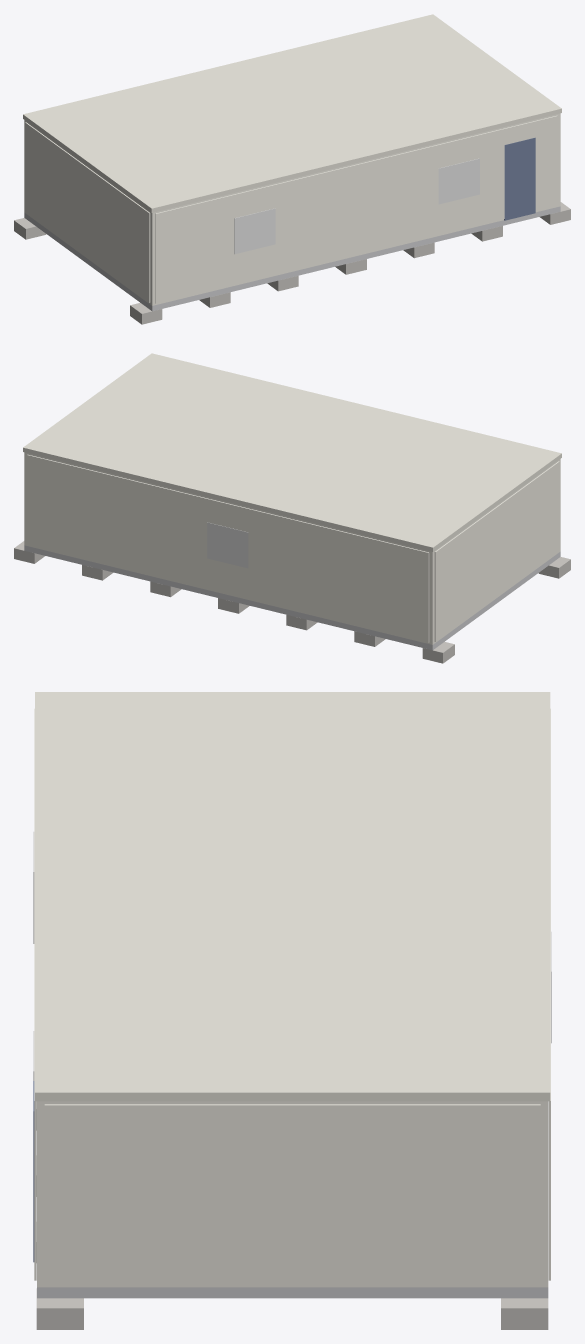
File: Studio-40-Base-IvoryWhite-LOD2.glb
3 views of the same model, one above another, from view 1: azimuth 30°, elevation 25°; view 2: azimuth 150°, elevation 25°; view 3: azimuth 270°, elevation 25° (orthographic). The views are drawn at different scales.
Parts seen in each view (by area): view 1: RoofMain, ExteriorPanelsStandard, BaseFrame, WindowsStandard, ExteriorShell, FoundationBlocks, EntryDoor; view 2: RoofMain, ExteriorPanelsStandard, BaseFrame, ExteriorShell, FoundationBlocks, WindowsStandard; view 3: RoofMain, ExteriorPanelsStandard, ExteriorShell, BaseFrame, FoundationBlocks.
Part boxes in pixels (box(x1,y1,x2,y2)): RoofMain: box(23, 14, 561, 212); ExteriorPanelsStandard: box(25, 115, 557, 303); BaseFrame: box(24, 206, 560, 311); WindowsStandard: box(234, 158, 479, 254); ExteriorShell: box(24, 113, 560, 305); FoundationBlocks: box(14, 202, 570, 324); EntryDoor: box(504, 137, 535, 220); RoofMain: box(23, 353, 561, 551); ExteriorPanelsStandard: box(27, 454, 559, 642); BaseFrame: box(24, 545, 560, 650); ExteriorShell: box(24, 452, 560, 644); FoundationBlocks: box(14, 541, 570, 663); WindowsStandard: box(207, 522, 248, 568); RoofMain: box(35, 692, 550, 1101); ExteriorPanelsStandard: box(34, 708, 550, 1284); ExteriorShell: box(37, 1101, 548, 1287); BaseFrame: box(37, 1287, 548, 1298); FoundationBlocks: box(36, 1101, 548, 1329).
Bounding box in the file's own units: 12.49 × 3.17 × 6.53.
